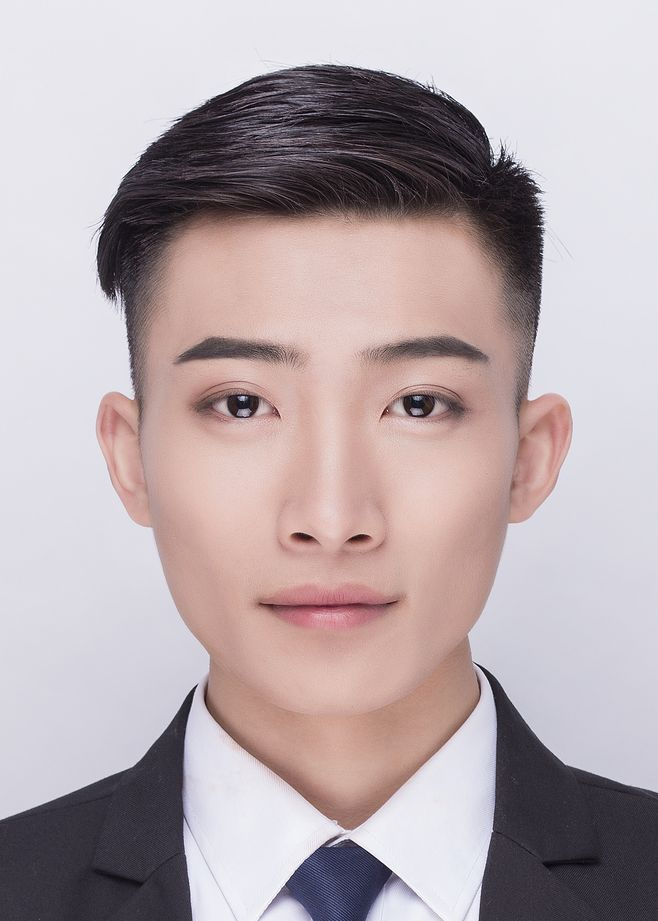unmask: (153, 233, 520, 688)
